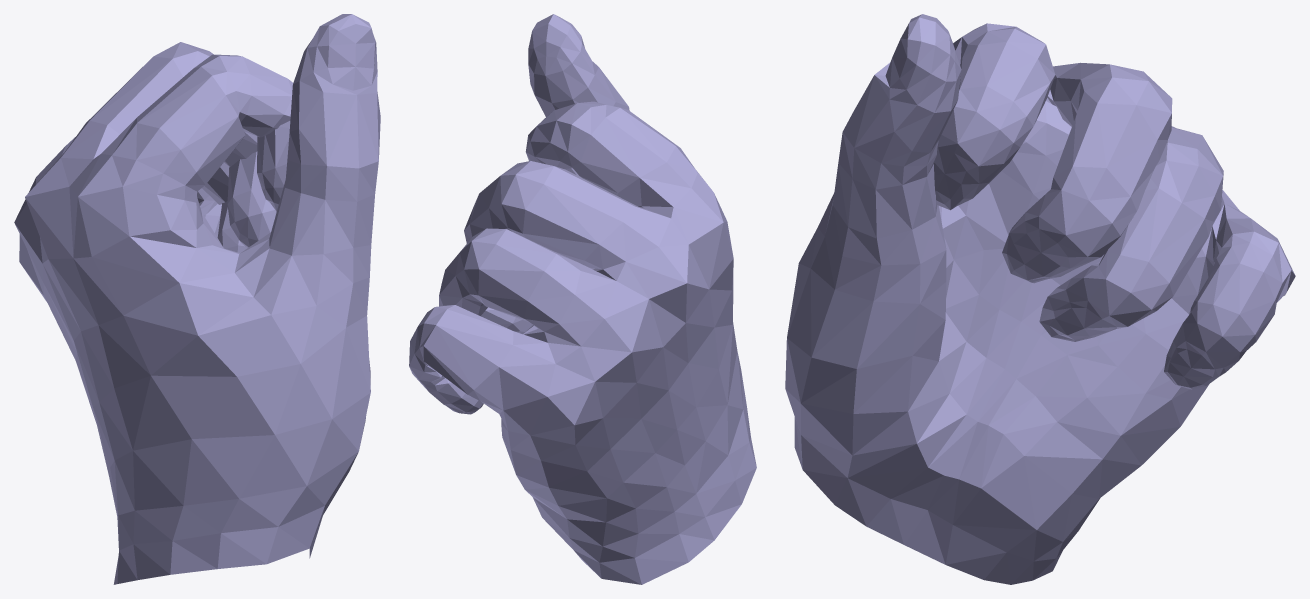
File: frame_0086_source_000086_hand.glb
3 renders of one model, left to right at view 1: azimuth 30°, elevation 25°; view 2: azimuth 150°, elevation 25°; view 3: azimuth 270°, elevation 25°, orthographic. The views are drawn at different scales.
Parts seen in each view (by area): view 1: world; view 2: world; view 3: world.
Part boxes in pixels (bbox=[...]): world: bbox=[14, 14, 380, 584]; world: bbox=[409, 14, 756, 584]; world: bbox=[785, 14, 1295, 584].
Bounding box in the file's own units: 0.0625 × 0.1275 × 0.0958.
